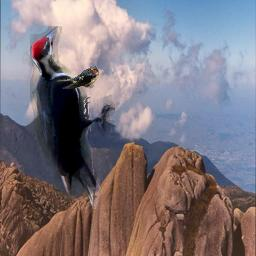Swallow: (55, 65, 99, 89)
Woodpecker: (30, 26, 115, 209)
